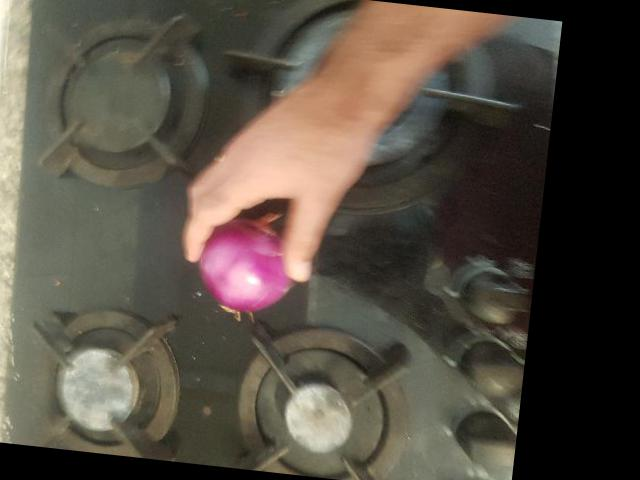onion: (192, 216, 301, 310)
